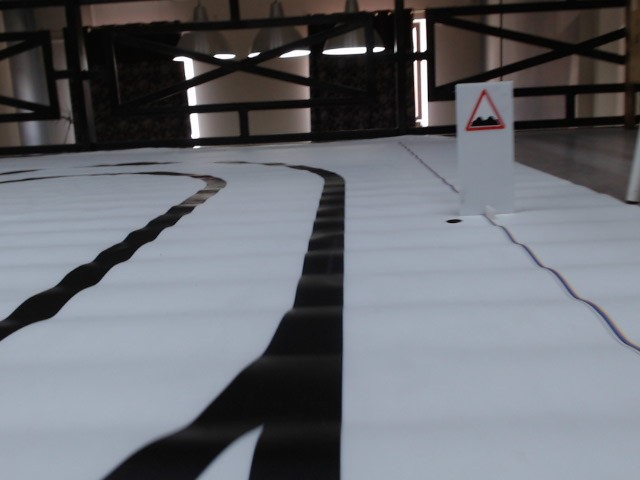Nerov: (464, 88, 507, 133)
